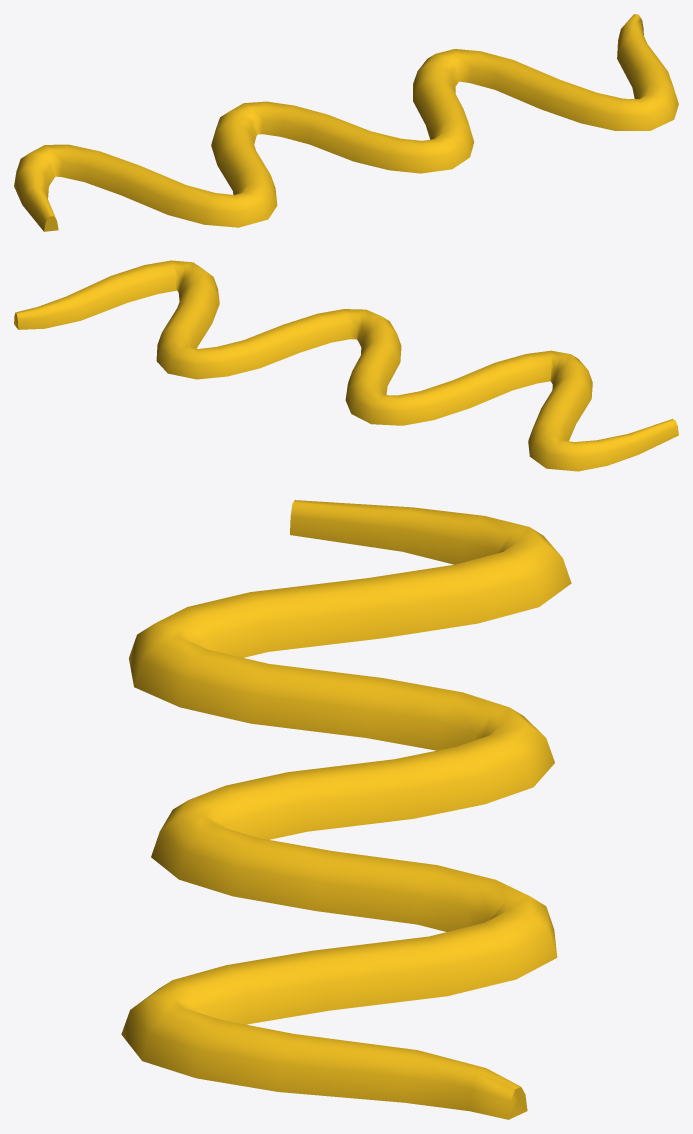
Rendered from Food_Mustard_Ribbon.fbx.
The picture shows the model from 3 angles, top to bottom: view 1: azimuth 30°, elevation 25°; view 2: azimuth 150°, elevation 25°; view 3: azimuth 270°, elevation 25°; orthographic projection. The views are drawn at different scales.
Parts seen in each view (by area): view 1: Sauce; view 2: Sauce; view 3: Sauce.
Part boxes in pixels (left/top/right/bottom): Sauce: left=14, top=14, right=678, bottom=231; Sauce: left=14, top=260, right=678, bottom=471; Sauce: left=121, top=500, right=571, bottom=1119.
Bounding box in the file's own units: 203 × 6.94 × 64.81.
